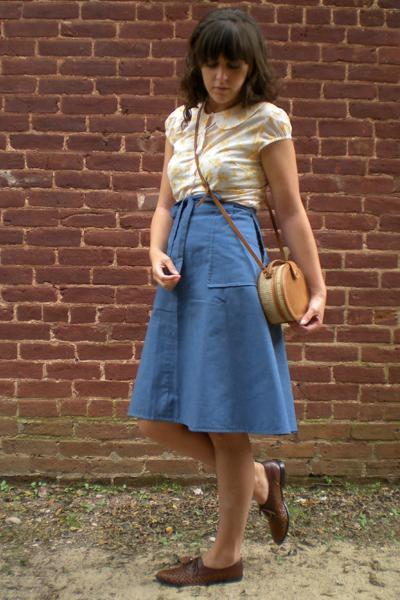bag: (240, 232, 325, 345)
shirt: (162, 102, 293, 207)
shoe: (156, 450, 290, 591)
skirt: (128, 180, 297, 434)
